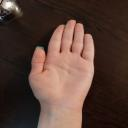OpenPalm: (29, 18, 96, 107)
